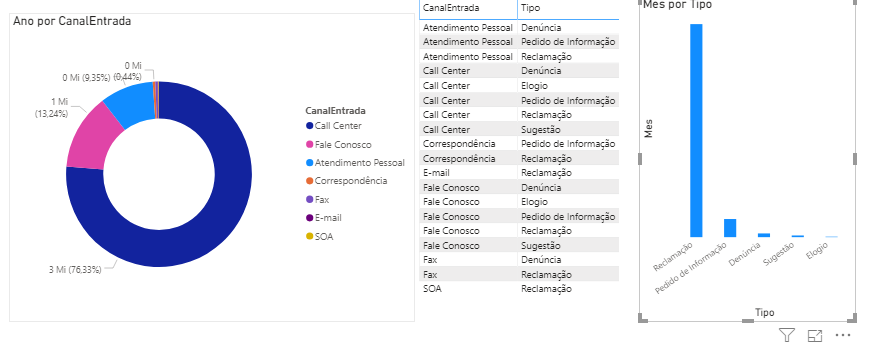

This screenshot's page, from the dashboard's own definition file:
{"tool":"powerbi","page":{"name":"Página 1","canvas":[1280,720],"ordinal":0},"visuals":[{"type":"donutChart","fields":{"Category":["Solicitações Registradas na Anatel (2006-SE).CanalEntrada"],"Y":["Sum(Solicitações Registradas na Anatel (2006-SE).Ano)"]},"box":[16.5,23.4,558.9,425.4],"z":0},{"type":"tableEx","fields":{"Values":["Solicitações Registradas na Anatel (2006-SE).CanalEntrada","Solicitações Registradas na Anatel (2006-SE).Tipo"]},"box":[575.4,0,298.7,448.8],"z":1},{"type":"ribbonChart","fields":{"Category":["Solicitações Registradas na Anatel (2006-SE).Tipo"],"Y":["Sum(Solicitações Registradas na Anatel (2006-SE).Mes)"]},"box":[884,0,299,449],"z":2}]}

Visuals, with their boxes on the page's 1280x720 design canvas (x1, y1, x2, y2). These are canvas units, not pixel positions in the 875x349 screenshot, which may show the page scaled, cropped or inside an application window:
donutChart - Solicitações Registradas na Anatel (2006-SE).CanalEntrada x Sum(Solicitações Registradas na Anatel (2006-SE).Ano): (16, 23, 575, 449)
tableEx - Solicitações Registradas na Anatel (2006-SE).CanalEntrada x Solicitações Registradas na Anatel (2006-SE).Tipo: (575, 0, 874, 449)
ribbonChart - Solicitações Registradas na Anatel (2006-SE).Tipo x Sum(Solicitações Registradas na Anatel (2006-SE).Mes): (884, 0, 1183, 449)
